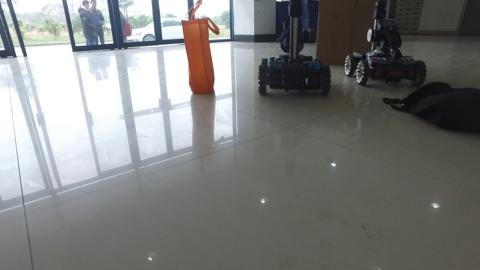bag: (181, 2, 218, 99)
chariot: (255, 1, 333, 97), (345, 1, 429, 87)
